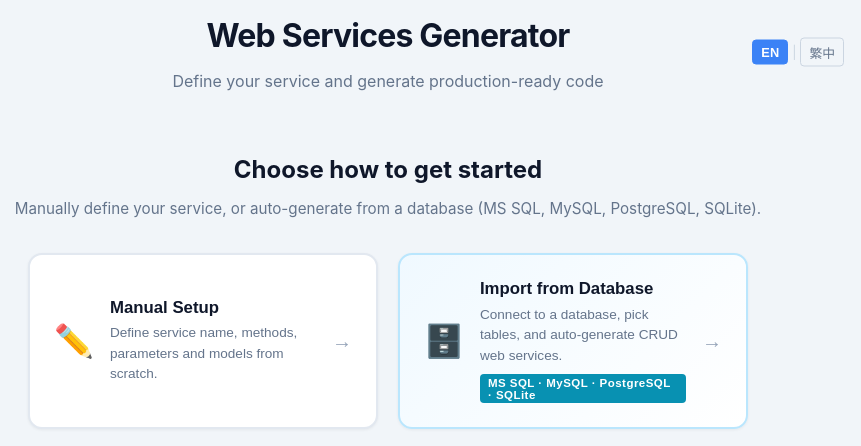
Test: language switcher in App header › clicking 繁中 changes title to Chinese
Click the button with aria-label "切換為繁體中文": point(822, 52) [800,38,844,67]
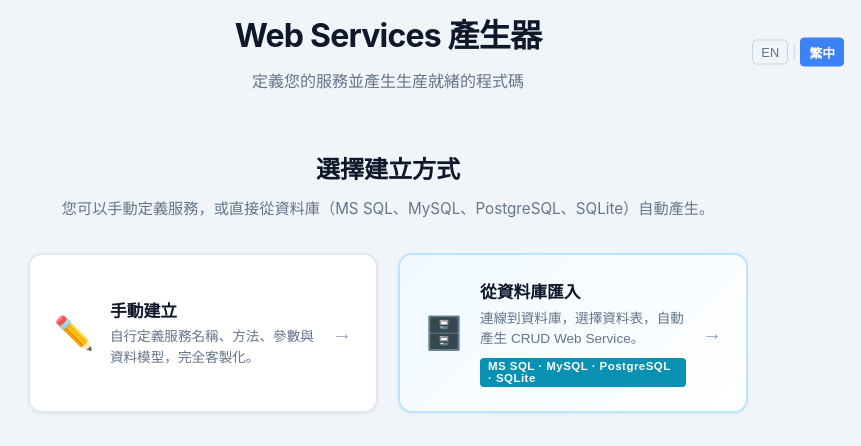
Expected: the heading "Web Services 產生器" is shown, [235,16,541,55]
